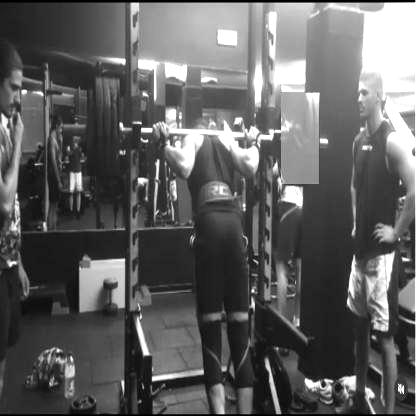barbell: (282, 93, 321, 186), (88, 75, 121, 177)
